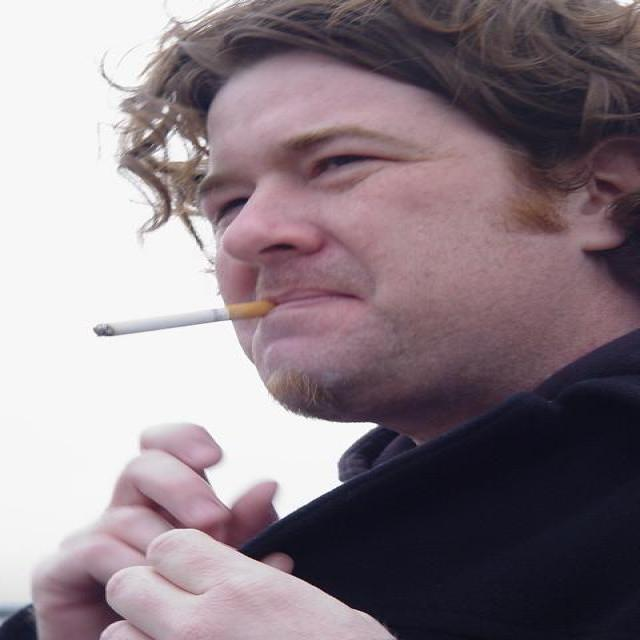Сигарета: (94, 294, 274, 339)
Тело: (33, 4, 640, 640)
